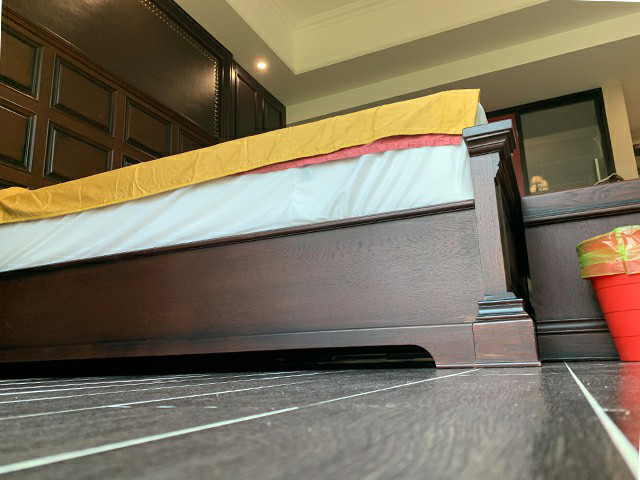bed: (1, 89, 543, 369)
stool: (522, 177, 640, 366)
trash can: (576, 226, 640, 364)
